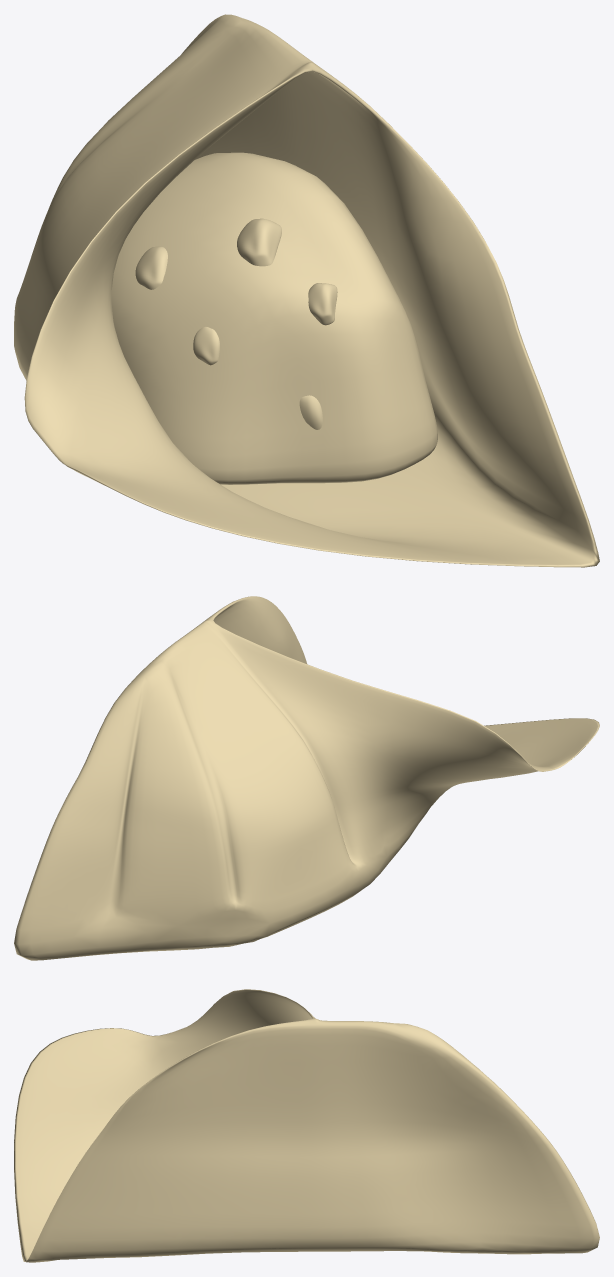
Rendered from web_dumpling.glb.
The picture shows the model from 3 angles, top to bottom: view 1: azimuth 30°, elevation 25°; view 2: azimuth 150°, elevation 25°; view 3: azimuth 270°, elevation 25°; orthographic projection. The views are drawn at different scales.
Parts seen in each view (by area): view 1: wrap2, pCube2_d, pCube15_d, pCube16_d, pCube18_d, pCube17_d; view 2: wrap2; view 3: wrap2.
Part boxes in pixels (x1=…): wrap2: x1=14, y1=14, x2=599, y2=567; pCube2_d: x1=111, y1=152, x2=437, y2=484; pCube15_d: x1=237, y1=218, x2=281, y2=266; pCube16_d: x1=135, y1=246, x2=167, y2=289; pCube18_d: x1=308, y1=283, x2=337, y2=325; pCube17_d: x1=193, y1=327, x2=219, y2=365; wrap2: x1=14, y1=596, x2=599, y2=960; wrap2: x1=14, y1=989, x2=599, y2=1262.
Bounding box in the file's own units: 33.99 × 24.84 × 58.6.
